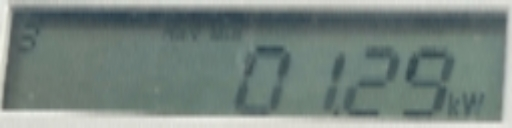0: (232, 41, 293, 120)
1: (318, 52, 342, 120)
2: (345, 48, 408, 117)
9: (402, 44, 455, 119)
d: (330, 104, 345, 115)
